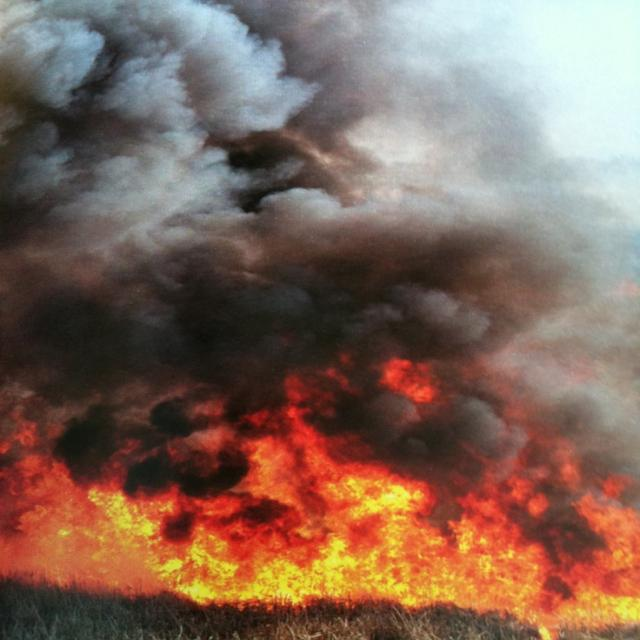Fire: (27, 401, 631, 626)
Smoke: (21, 18, 620, 489)
